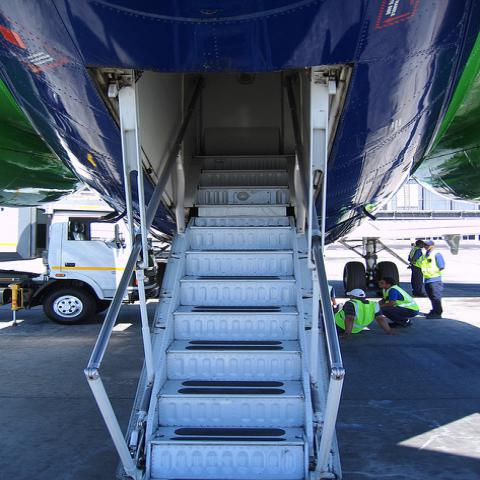truck: (0, 201, 131, 326)
